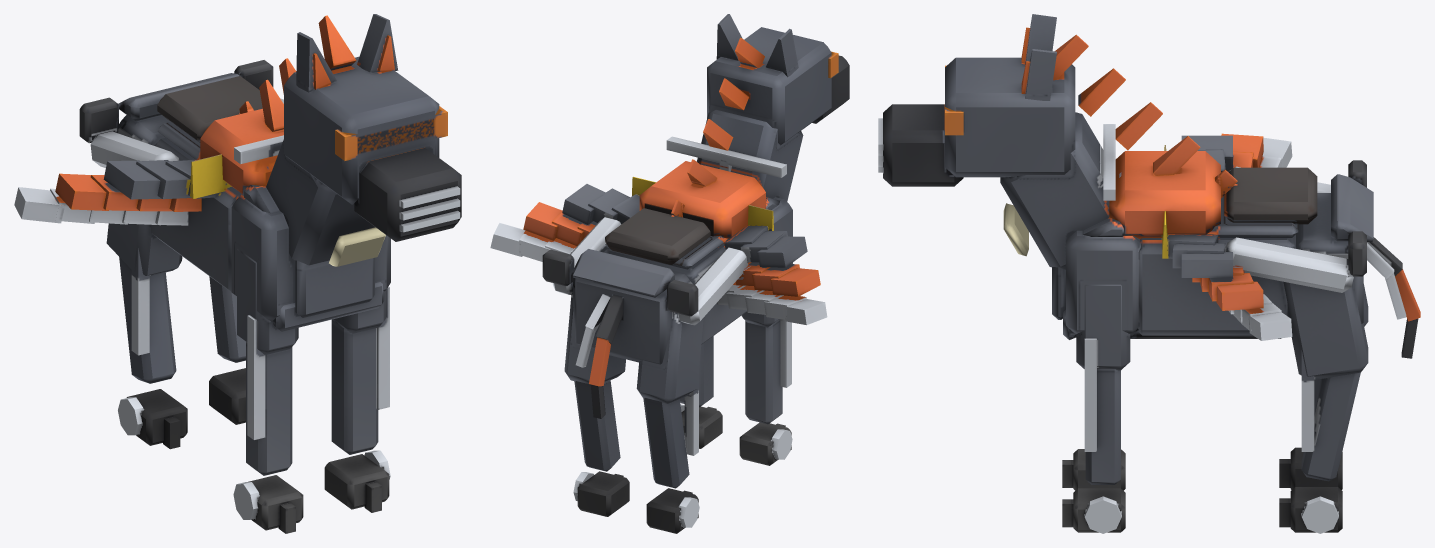
Rendered from PegaseMoto_Rig.fbx.
3 views of the same model, side by side, from view 1: azimuth 30°, elevation 25°; view 2: azimuth 150°, elevation 25°; view 3: azimuth 270°, elevation 25° (orthographic). The views are drawn at different scales.
Visible parts, largest first — view 1: Body, Head, LegFR, LegFL, LegBR, WingR, LegBL; view 2: Body, Head, LegBR, WingR, LegFR, LegBL, WingL, Tail, LegFL; view 3: Body, Head, LegBL, LegFL, WingL, WingR, Tail, LegBR, LegFR.
Part boxes in pixels (box(x1,y1,x2,y2)): Body: box(79, 58, 390, 331); Head: box(284, 14, 461, 241); LegFR: box(233, 248, 303, 533); LegFL: box(324, 286, 390, 512); LegBR: box(106, 223, 187, 449); WingR: box(14, 159, 219, 225); LegBL: box(209, 276, 245, 424); Body: box(542, 110, 803, 364); Head: box(707, 14, 849, 145); LegBR: box(636, 312, 703, 533); WingR: box(717, 225, 827, 325); LegFR: box(739, 311, 792, 465); LegBL: box(564, 292, 629, 516); WingL: box(490, 184, 639, 261); Tail: box(575, 294, 623, 418); LegFL: box(680, 336, 722, 448); Body: box(1000, 102, 1373, 339); Head: box(878, 14, 1125, 186); LegBL: box(1279, 281, 1368, 533); LegFL: box(1062, 284, 1130, 533); WingL: box(1167, 234, 1292, 340); WingR: box(1181, 133, 1292, 172); Tail: box(1367, 237, 1420, 358); LegBR: box(1279, 284, 1368, 489); LegFR: box(1062, 449, 1125, 490).
Bounding box in the file's own units: 5.13 × 6 × 6.23.
1 material, 1 textured.
